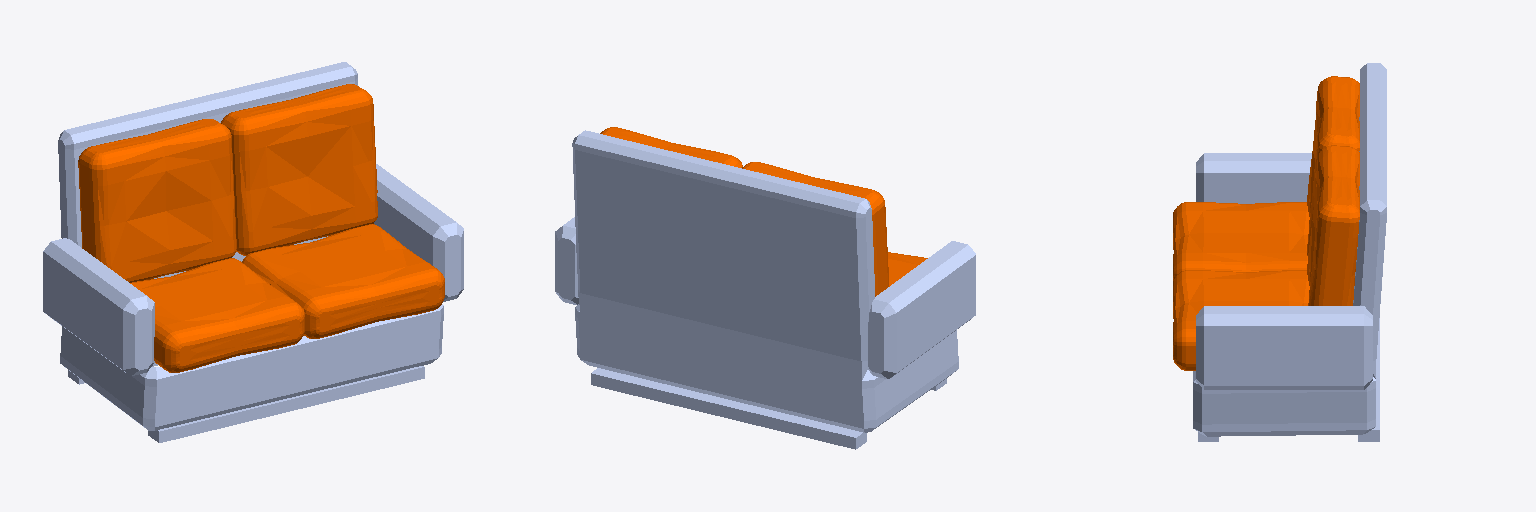
File: Couch_01_obj.obj
The picture shows the model from 3 angles: view 1: azimuth 30°, elevation 25°; view 2: azimuth 150°, elevation 25°; view 3: azimuth 270°, elevation 25°; orthographic projection.
Parts seen in each view (by area): view 1: Couch_01_obj.obj; view 2: Couch_01_obj.obj; view 3: Couch_01_obj.obj.
Boxes of the visible parts, x1=… form: Couch_01_obj.obj: x1=43, y1=62, x2=463, y2=442; Couch_01_obj.obj: x1=555, y1=127, x2=975, y2=449; Couch_01_obj.obj: x1=1173, y1=63, x2=1386, y2=441.
Bounding box in the file's own units: 3.64 × 2.52 × 1.98.